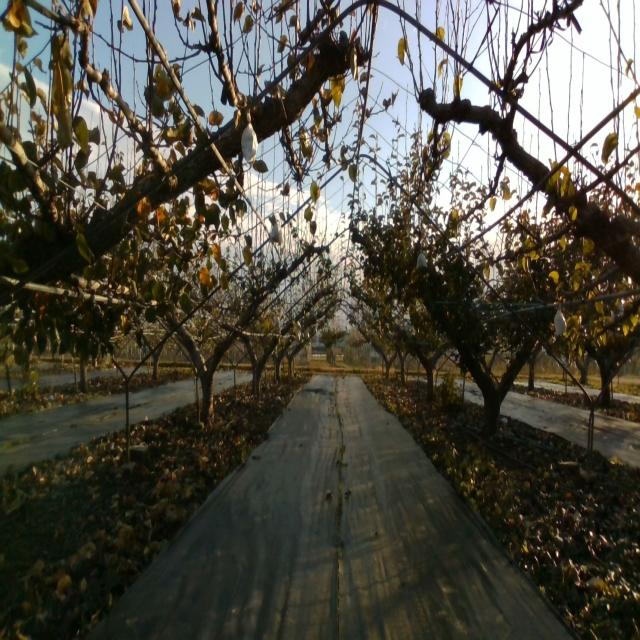pearbags: (240, 113, 258, 168), (554, 307, 568, 334), (270, 218, 284, 244), (415, 248, 428, 272)
